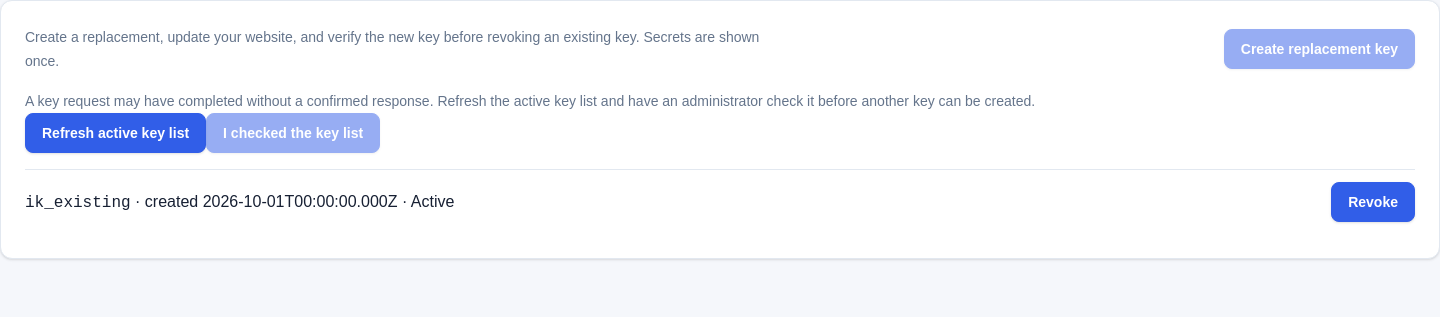
IngestKeysManager create recovery › requires a valid active key list before clearing an unknown-outcome marker
Click the button "Refresh active key list".
click(116, 133)  # box x1=25 y1=113 x2=206 y2=153
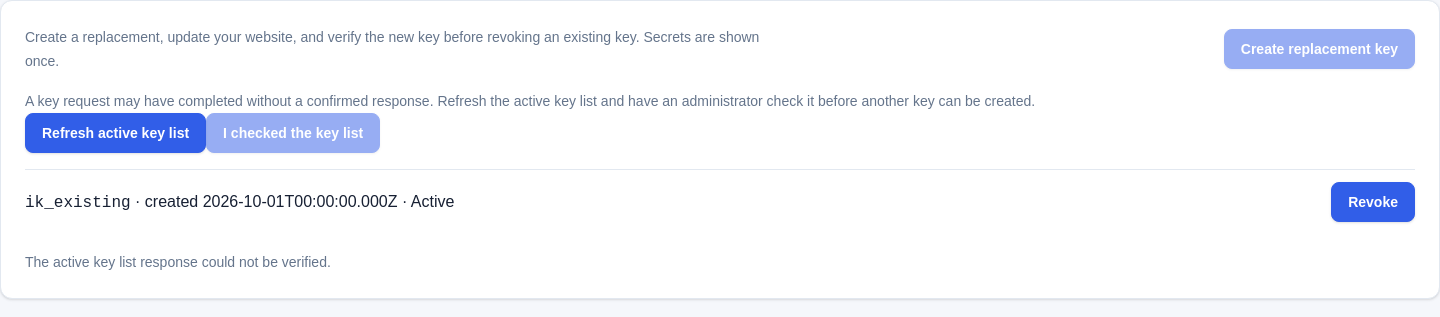
expect the button "I checked the key list" is disabled: met, box x1=206 y1=113 x2=380 y2=153
expect the text "active key list response could not be verified" is shown: met, box x1=25 y1=254 x2=331 y2=270
Click the button "Refresh active key list".
click(116, 133)  # box x1=25 y1=113 x2=206 y2=153
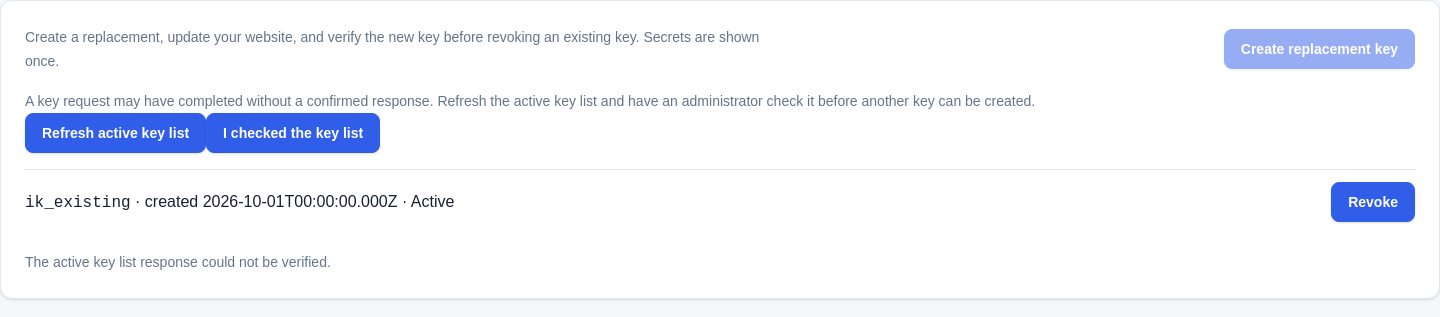
expect the button "I checked the key list" is enabled: met
Click the button "I checked the key list".
click(293, 133)  # box x1=206 y1=113 x2=380 y2=153
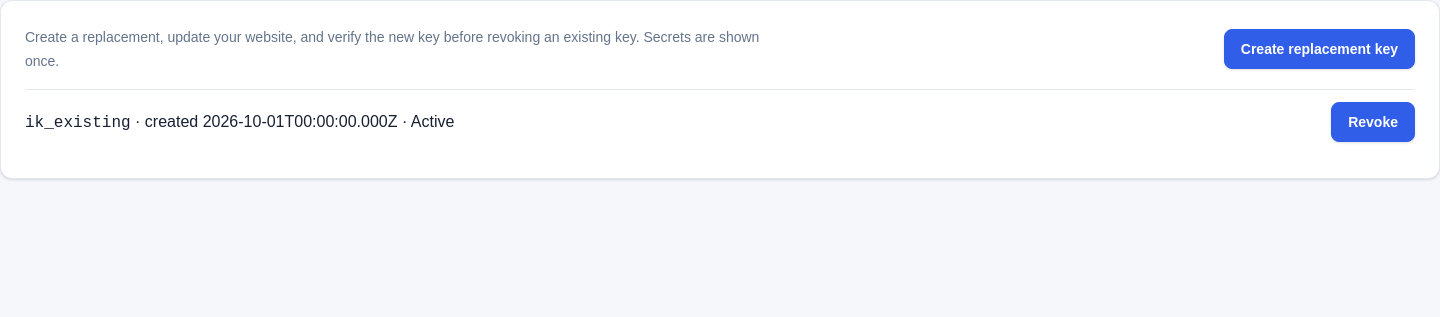
expect the button "Create replacement key" is enabled: met, box x1=1224 y1=29 x2=1415 y2=69
